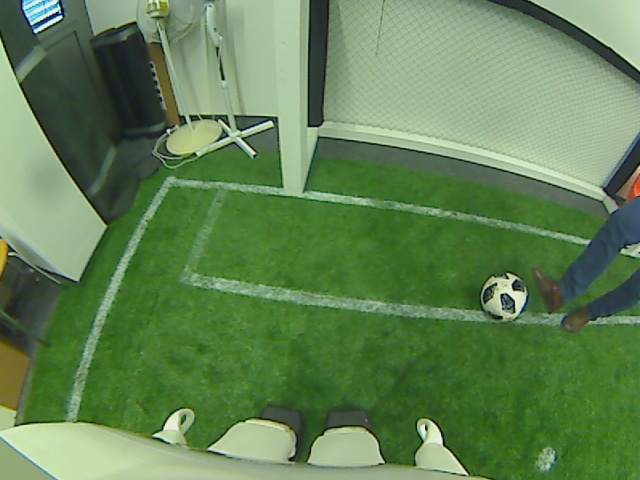ball: (480, 269, 527, 322)
